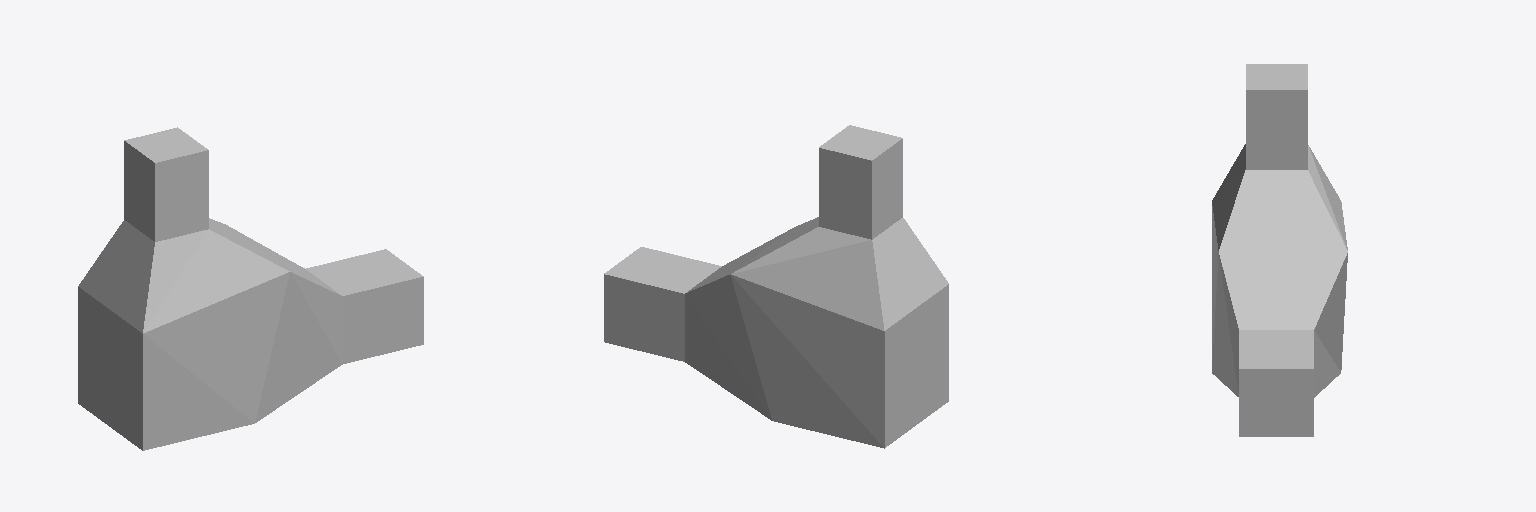
File: nonsense.obj
3 views of the same model, side by side, from view 1: azimuth 30°, elevation 25°; view 2: azimuth 150°, elevation 25°; view 3: azimuth 270°, elevation 25° (orthographic).
Visible parts, largest first — view 1: Cube; view 2: Cube; view 3: Cube.
Part boxes in pixels (left/top/right/bottom): Cube: left=78, top=127, right=423, bottom=450; Cube: left=604, top=125, right=948, bottom=448; Cube: left=1212, top=64, right=1347, bottom=436.
Bounding box in the file's own units: 5.25 × 4.58 × 2.1.